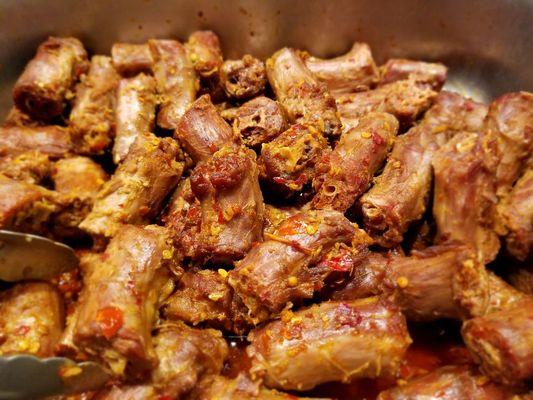sandwich: (0, 23, 533, 399)
